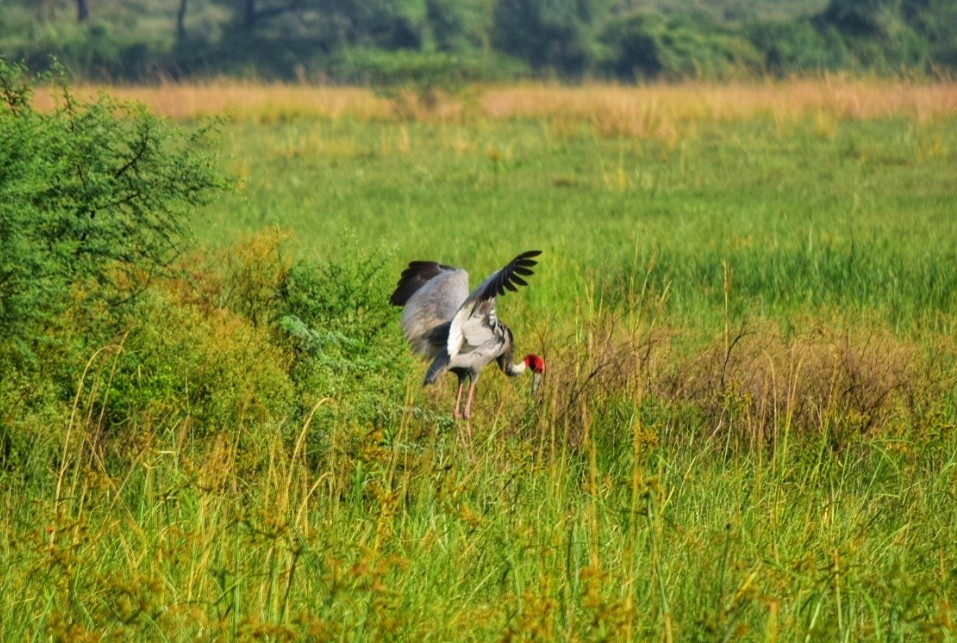crane: (381, 237, 549, 440)
